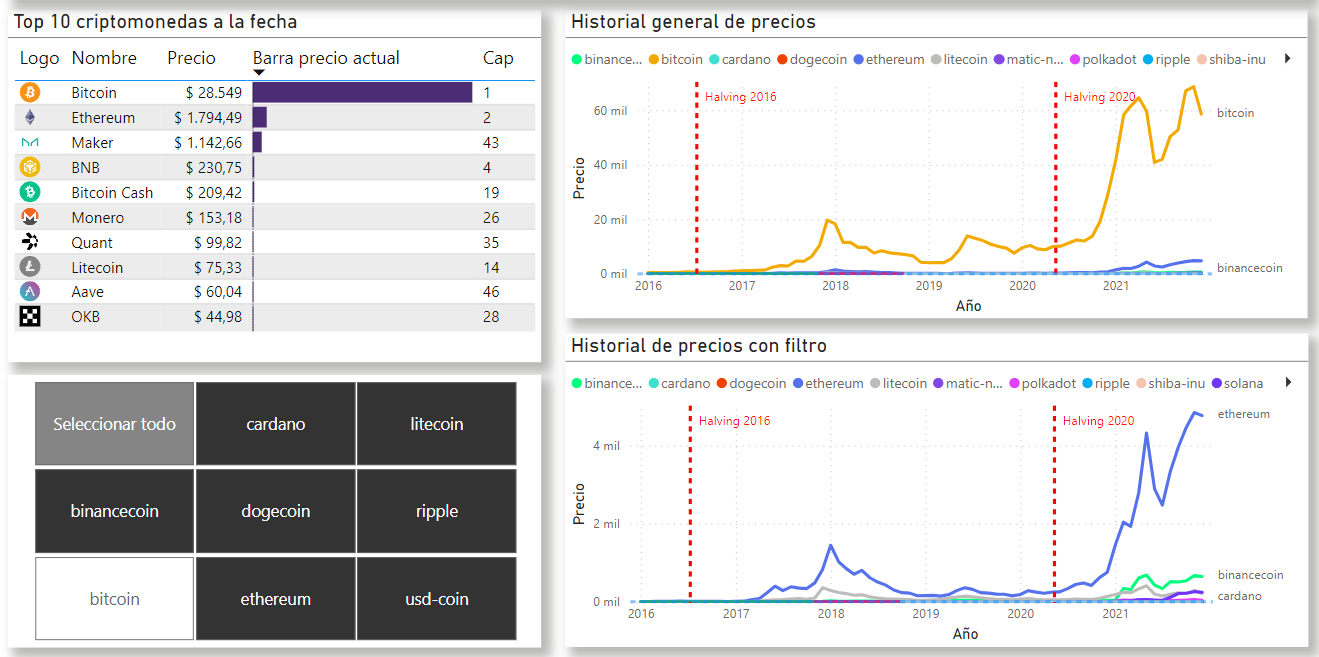

This screenshot's page, from the dashboard's own definition file:
{"tool":"powerbi","page":{"name":"General","canvas":[1280,720],"ordinal":0},"visuals":[{"type":"lineChart","title":"Historial general de precios","fields":{"Series":["criptos historial.id_cripto"],"Y":["Max(criptos historial.precio)"],"Category":["criptos historial.fecha.Variación.Jerarquía de fechas.Año","criptos historial.fecha.Variación.Jerarquía de fechas.Mes"]},"box":[547.5,90.5,716.4,297.9],"z":0},{"type":"tableEx","title":"Top 10 criptomonedas a la fecha","fields":{"Values":["tiempo_real.image","tiempo_real.name","tiempo_real.current_price","Sum(tiempo_real.current_price)","tiempo_real.market_cap_rank"]},"box":[10.1,90.5,514.6,340.3],"z":1000},{"type":"actionButton","box":[0,0,100,40],"z":2000},{"type":"slicer","fields":{"Values":["criptos historial.id_cripto"]},"box":[10.1,442.5,514.6,263.2],"z":3000},{"type":"lineChart","title":"Historial de precios con filtro","fields":{"Series":["criptos historial.id_cripto"],"Y":["Max(criptos historial.precio)"],"Category":["criptos historial.fecha.Variación.Jerarquía de fechas.Año","criptos historial.fecha.Variación.Jerarquía de fechas.Mes"]},"box":[547.9,403.3,716.6,302.1],"z":4000},{"type":"textbox","box":[9.6,8.2,1255.8,71.4],"z":5000}]}

Visuals, with their boxes on the page's 1280x720 design canvas (x1, y1, x2, y2). These are canvas units, not pixel positions in the 1319x657 screenshot, which may show the page scaled, cropped or inside an application window:
"Historial general de precios" lineChart: BBox(548, 90, 1264, 388)
"Top 10 criptomonedas a la fecha" tableEx: BBox(10, 90, 525, 431)
actionButton: BBox(0, 0, 100, 40)
slicer - criptos historial.id_cripto: BBox(10, 442, 525, 706)
"Historial de precios con filtro" lineChart: BBox(548, 403, 1264, 705)
textbox: BBox(10, 8, 1265, 80)
